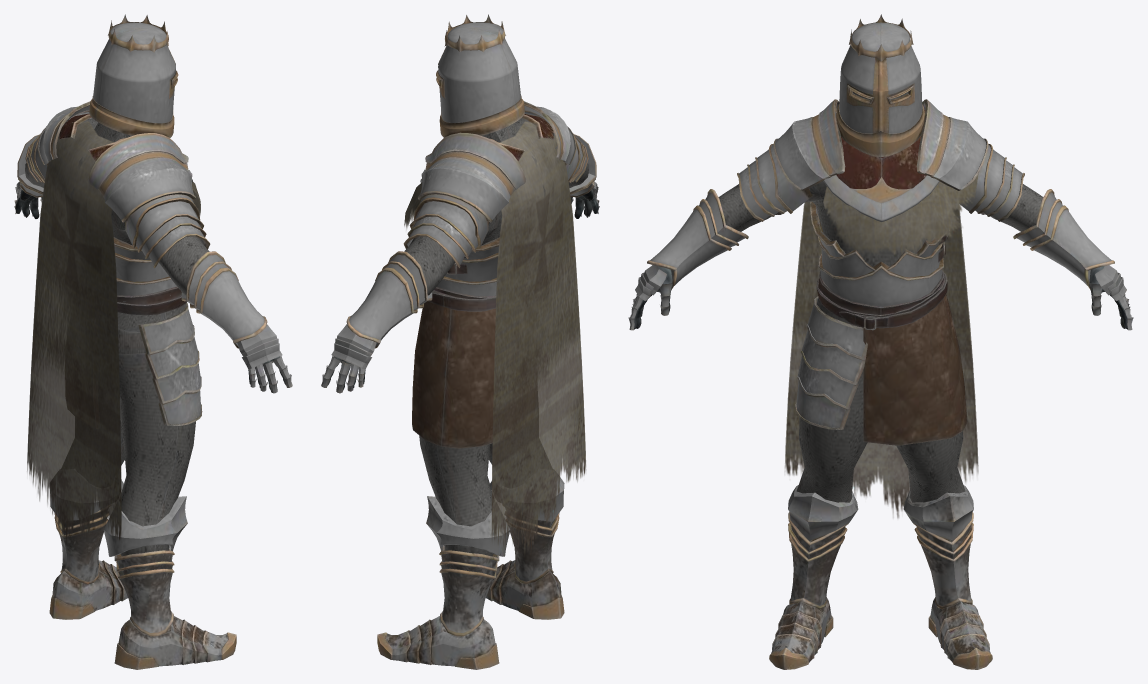
File: caballero.glb
3 views of the same model, side by side, from view 1: azimuth 30°, elevation 25°; view 2: azimuth 150°, elevation 25°; view 3: azimuth 270°, elevation 25° (orthographic). The views are drawn at different scales.
Visible parts, largest first — view 1: Object_5, Object_2; view 2: Object_5, Object_2; view 3: Object_5, Object_2, Object_3.
Boxes of the visible parts, box(x1,y1,x2,y2) form: Object_5: box(14, 14, 292, 669); Object_2: box(27, 121, 121, 543); Object_5: box(321, 14, 599, 669); Object_2: box(491, 121, 585, 555); Object_5: box(628, 14, 1133, 669); Object_2: box(785, 201, 978, 518); Object_3: box(823, 174, 978, 256).
Bounding box in the file's own units: 3.92 × 18.77 × 13.87.
Materials: 3 (3 with a texture image).
